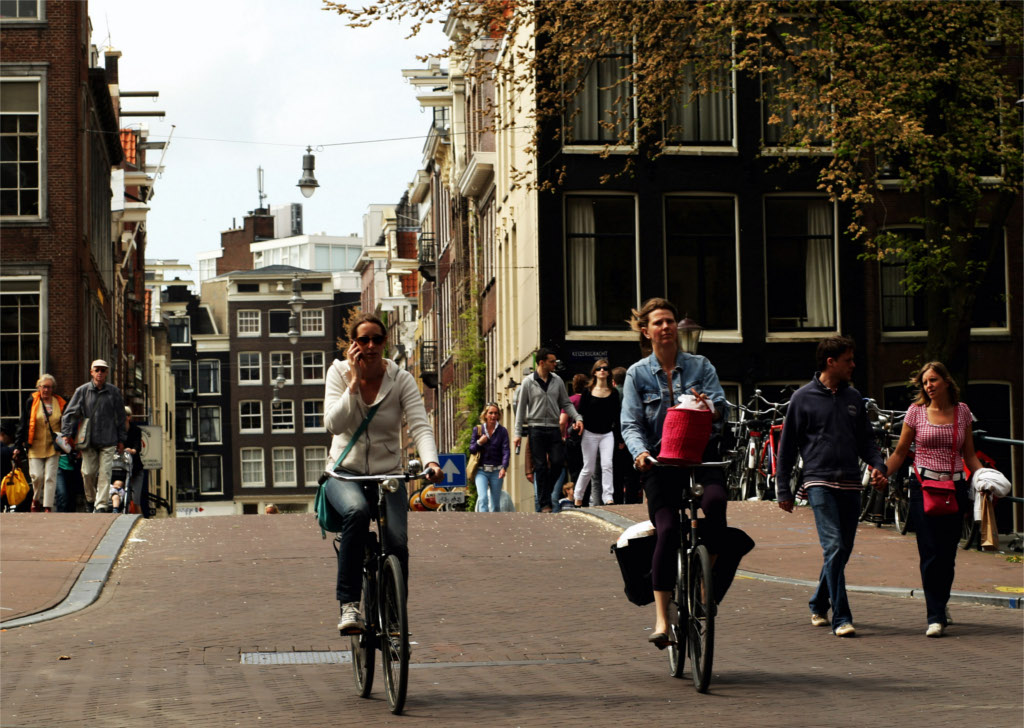commuter: (620, 299, 763, 702), (315, 320, 445, 717)
